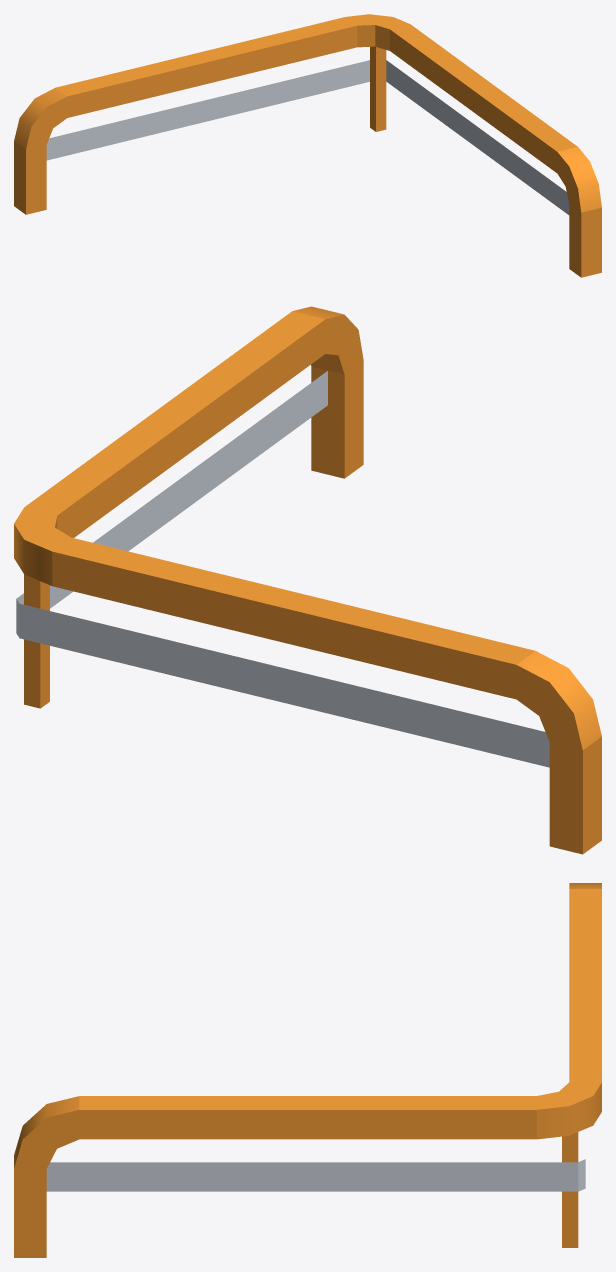
File: rail_corner.glb
The picture shows the model from 3 angles, top to bottom: view 1: azimuth 30°, elevation 25°; view 2: azimuth 150°, elevation 25°; view 3: azimuth 270°, elevation 25°; orthographic projection. The views are drawn at different scales.
Visible parts, largest first — view 1: rail_corner; view 2: rail_corner; view 3: rail_corner.
Boxes of the visible parts, bbox=[...] form: rail_corner: bbox=[14, 14, 601, 277]; rail_corner: bbox=[14, 306, 601, 854]; rail_corner: bbox=[14, 883, 601, 1257].
Bounding box in the file's own units: 0.9 × 0.25 × 0.9.
